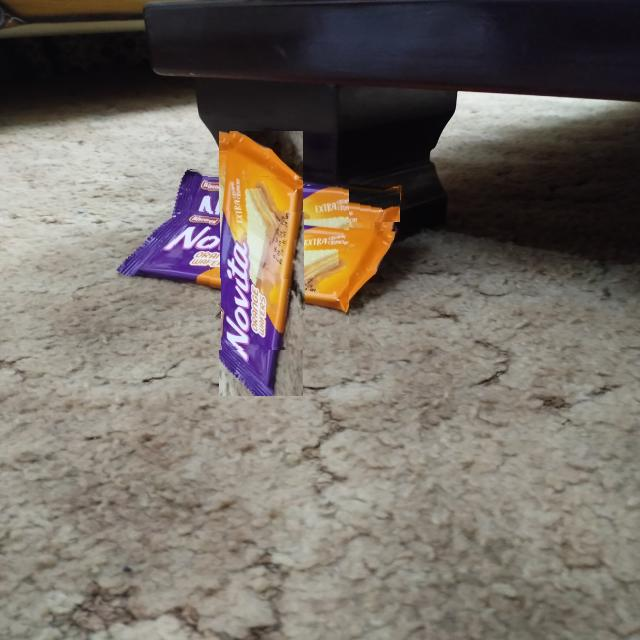Plastic: (174, 176, 349, 350), (173, 168, 400, 222)
